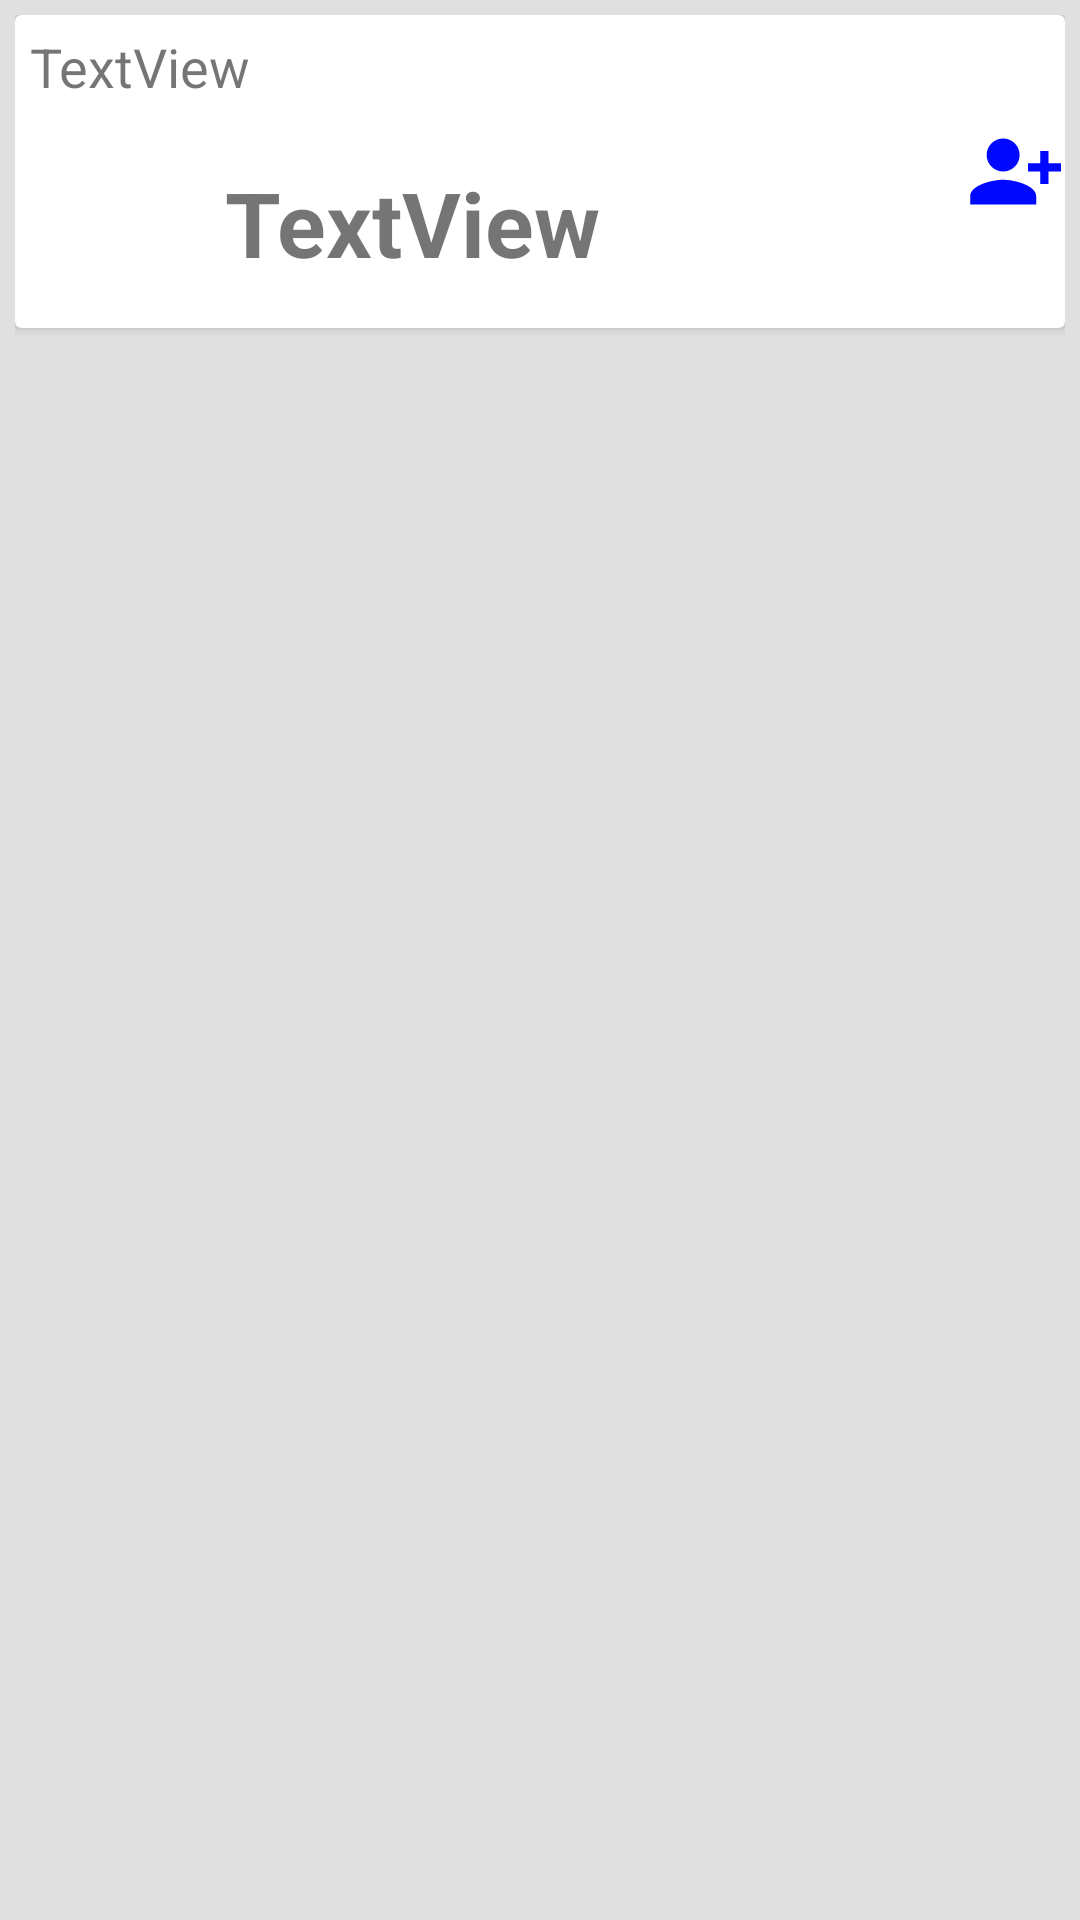

Screen size 1080*1920. Icon name, then its center in pixels as point (x, y):
follow: point (1015, 171)
